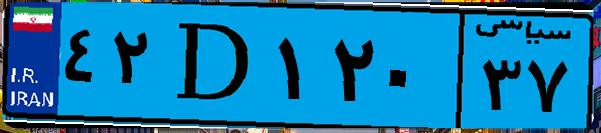0: (385, 28, 445, 110)
1: (270, 28, 330, 110)
2: (330, 28, 385, 110), (110, 28, 158, 98)
3: (475, 38, 525, 113)
4: (57, 26, 110, 100)
7: (525, 38, 570, 115)
D: (158, 12, 270, 120)
